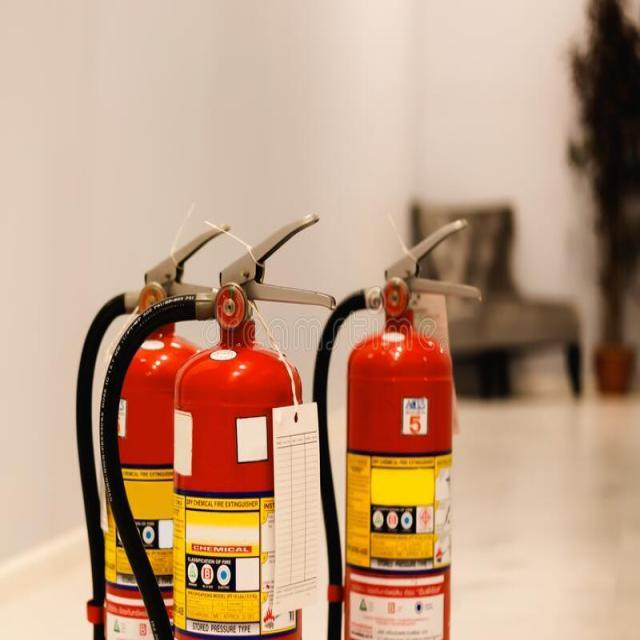fire_extinguisher: (96, 208, 337, 639), (304, 214, 484, 639), (70, 221, 238, 639)
